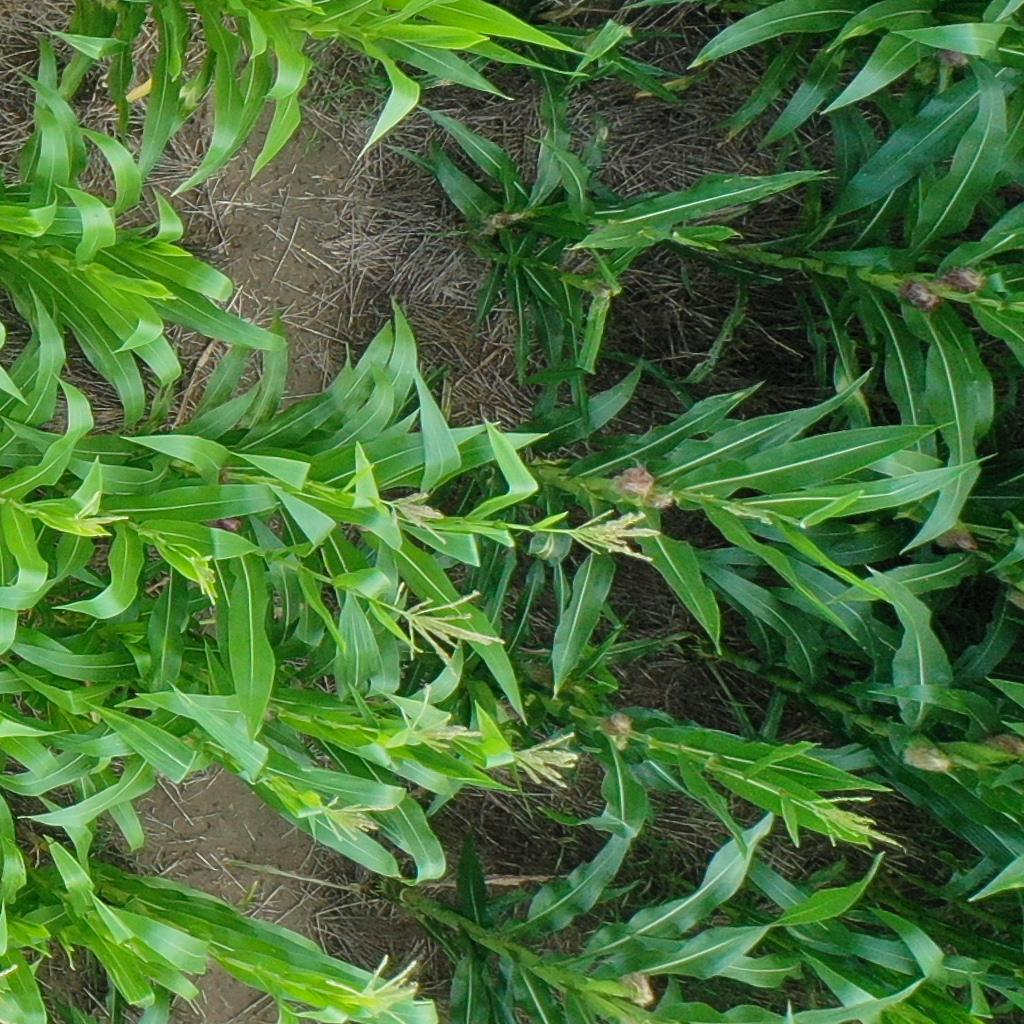Tassel: (394, 581, 507, 681), (326, 954, 422, 1024), (809, 791, 910, 855), (395, 685, 483, 751), (571, 505, 665, 566), (511, 728, 583, 794), (719, 491, 810, 532), (390, 490, 451, 544), (320, 797, 382, 844), (70, 488, 130, 535), (192, 551, 220, 603), (162, 288, 177, 304)
